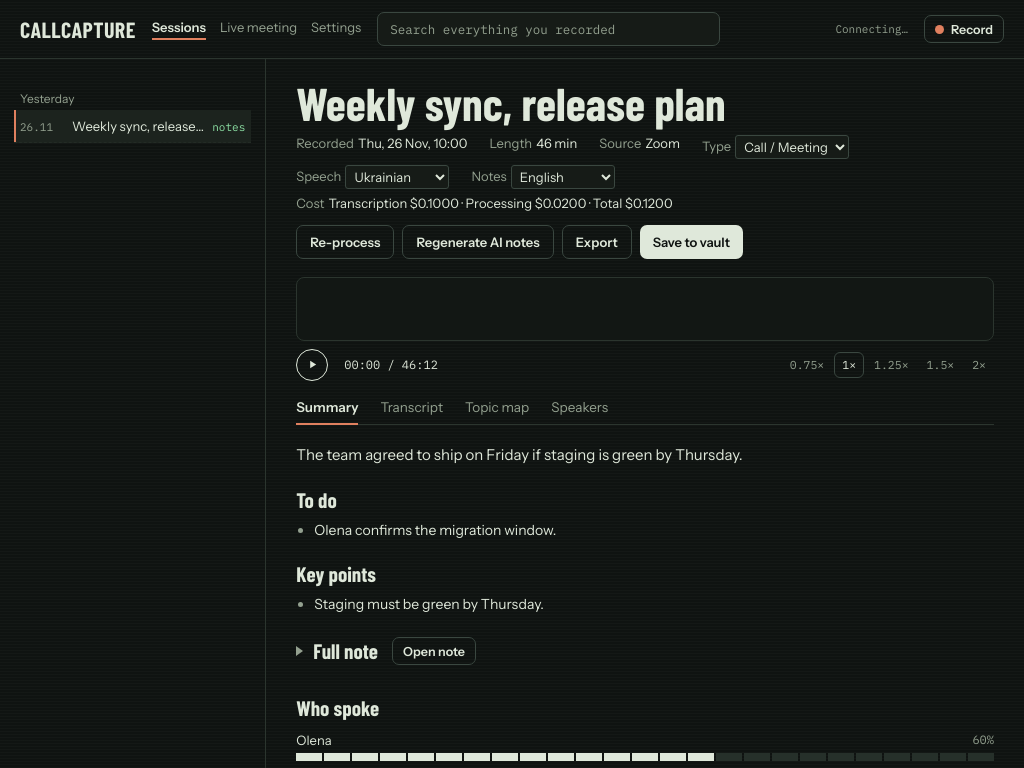
Test: SessionDetail › renders the note as Markdown without raw HTML or remote images
The width and height of the screenshot is (1024, 768).
Click the button "Full note" at [337, 651], box [296,638,378,663]
(page scrolled)
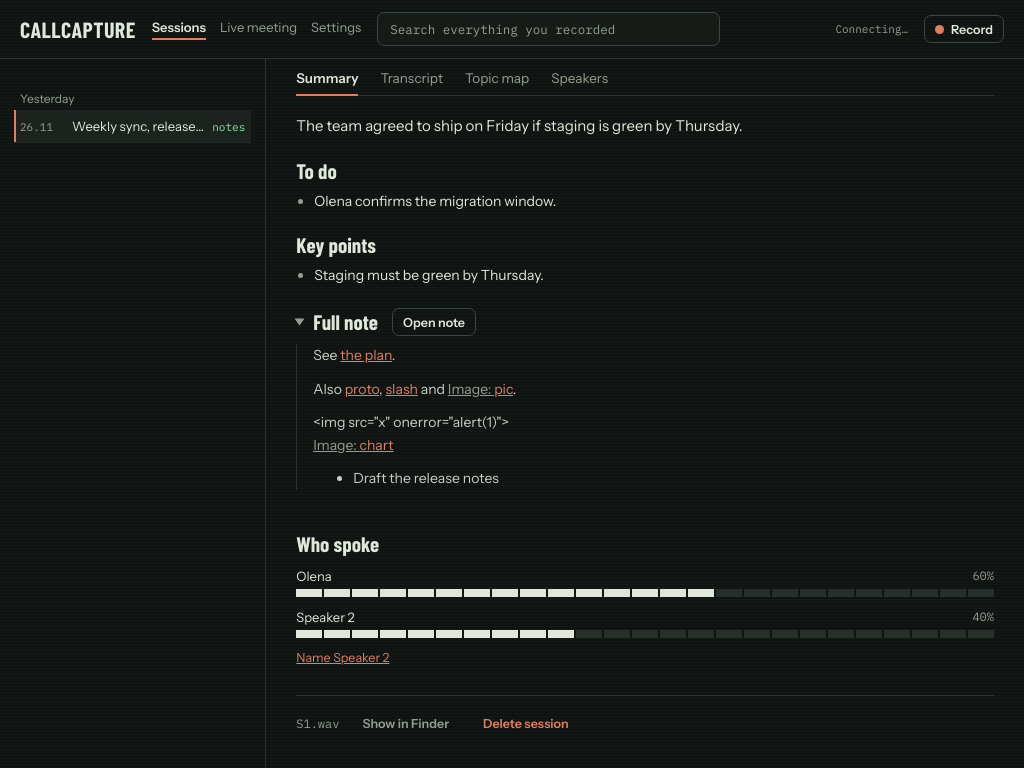
Expected: the list item "Draft the release notes" is shown, [353,469,499,487]
